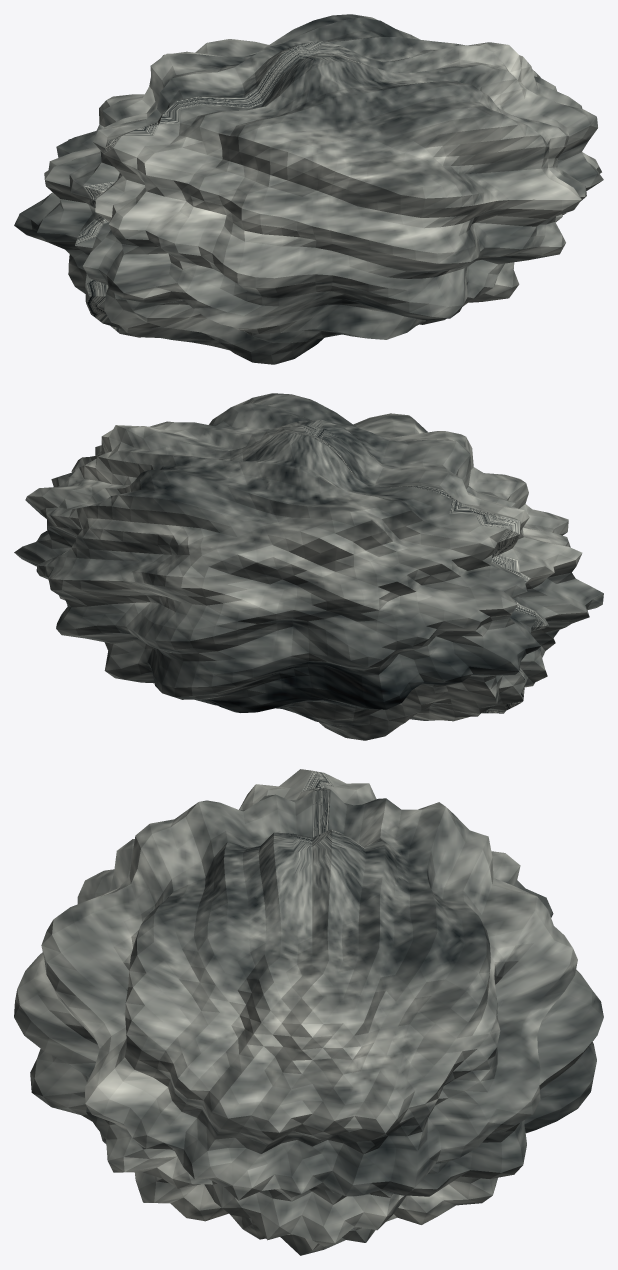
File: medium_03.glb
3 views of the same model, one above another, from view 1: azimuth 30°, elevation 25°; view 2: azimuth 150°, elevation 25°; view 3: azimuth 270°, elevation 25° (orthographic). The views are drawn at different scales.
Parts seen in each view (by area): view 1: rock; view 2: rock; view 3: rock.
Part boxes in pixels (x1,y1,x2,y2): rock: (14, 14, 603, 364); rock: (14, 393, 603, 740); rock: (14, 769, 603, 1255).
Size of the model in its own units: 3.51 by 1.76 by 2.8.
1 material, 1 textured.
